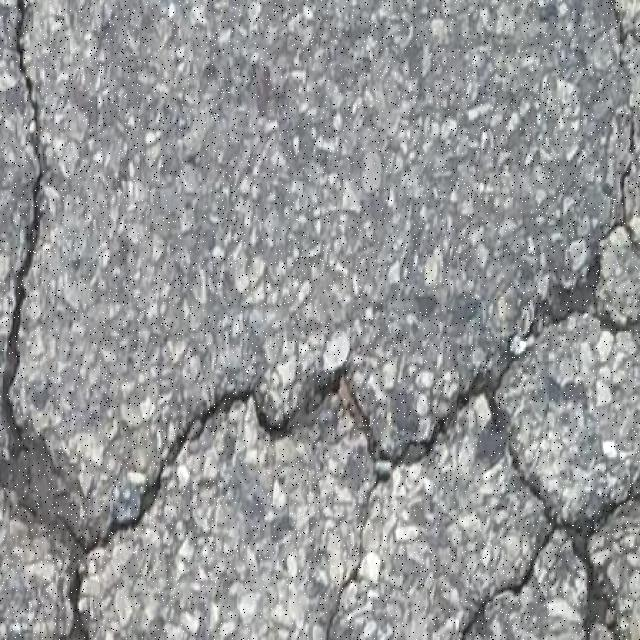Crack: (255, 75, 640, 527), (0, 6, 252, 639), (565, 470, 640, 639), (464, 536, 556, 640), (326, 498, 374, 639), (620, 18, 640, 48), (620, 310, 640, 339)
